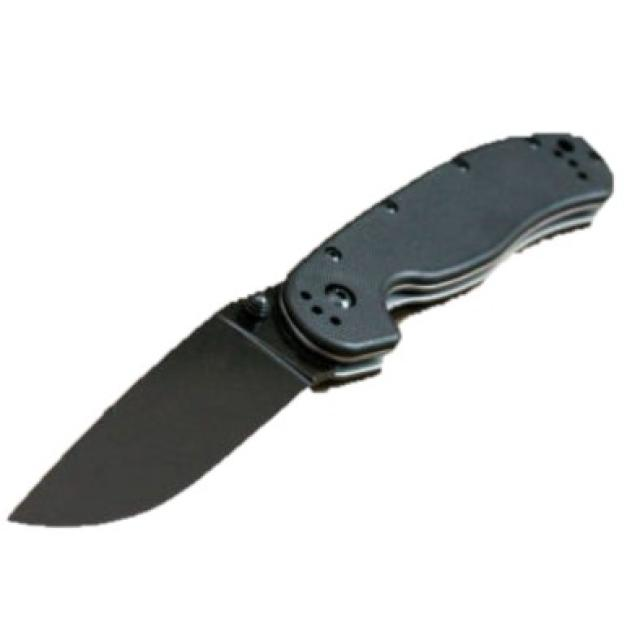knife: (8, 126, 613, 535)
